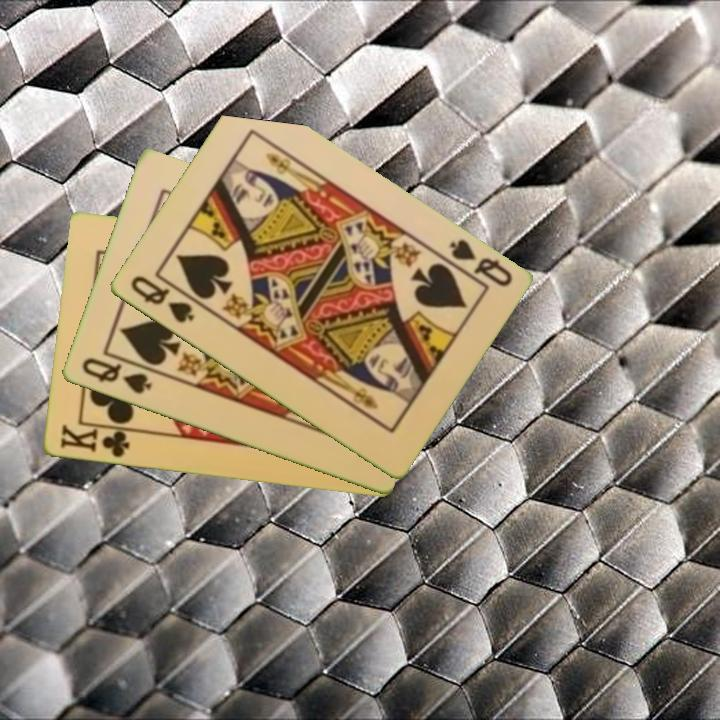Kc: (56, 421, 138, 461)
Qs: (126, 272, 197, 327), (445, 235, 515, 290), (78, 354, 155, 398)
